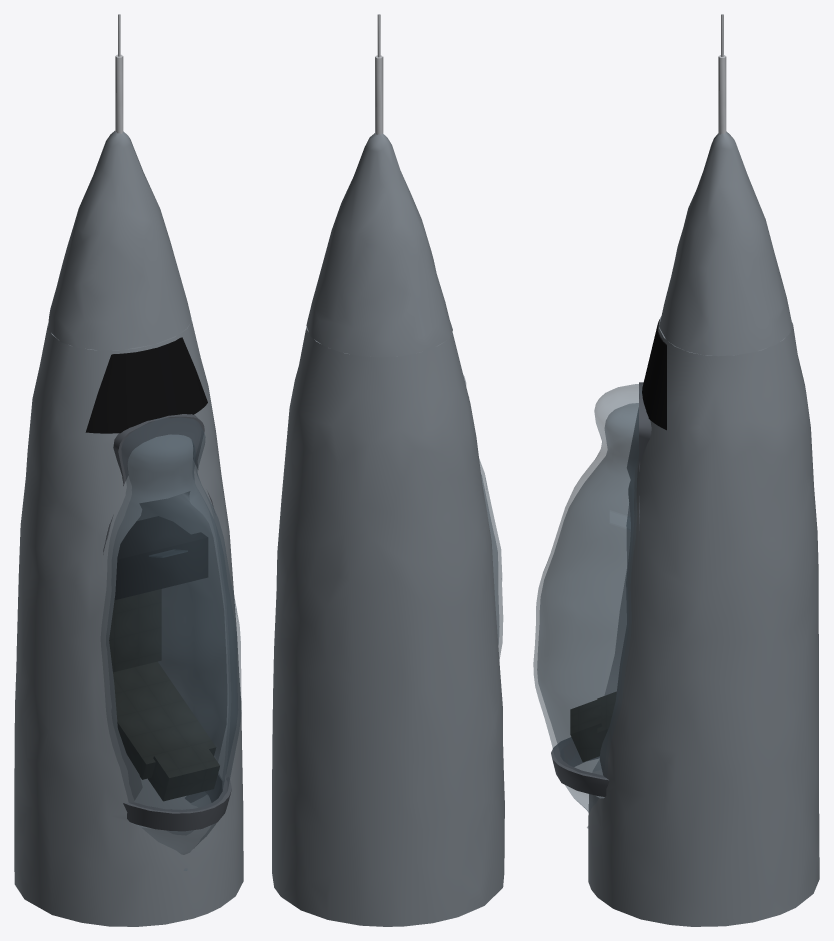
File: cockpit00_fighter_canopy.glb
3 views of the same model, side by side, from view 1: azimuth 30°, elevation 25°; view 2: azimuth 150°, elevation 25°; view 3: azimuth 270°, elevation 25° (orthographic).
Visible parts, largest first — view 1: fuselage, canopy_glass, radome, ejection_seat, antiglare_panel, instrument_panel, canopy_frame, pitot_probe; view 2: fuselage, radome, canopy_glass, pitot_probe; view 3: fuselage, canopy_glass, radome, canopy_frame, ejection_seat, antiglare_panel, pitot_probe.
Part boxes in pixels (x1,y1,x2,y2): fuselage: [14, 316, 243, 926]; canopy_glass: [101, 417, 241, 870]; radome: [48, 131, 190, 350]; ejection_seat: [109, 589, 219, 801]; antiglare_panel: [85, 337, 207, 433]; instrument_panel: [114, 516, 208, 599]; canopy_frame: [103, 414, 231, 831]; pitot_probe: [115, 14, 123, 133]; fuselage: [272, 327, 504, 926]; radome: [306, 133, 452, 357]; canopy_glass: [463, 375, 503, 660]; pitot_probe: [375, 14, 383, 134]; fuselage: [588, 316, 819, 926]; canopy_glass: [533, 384, 641, 828]; radome: [659, 131, 792, 356]; canopy_frame: [551, 382, 651, 796]; ejection_seat: [570, 691, 616, 761]; antiglare_panel: [642, 319, 666, 430]; pitot_probe: [718, 14, 726, 134].
Size of the model in its own units: 1.25 by 5.15 by 1.55.
8 materials, 2 textured.
